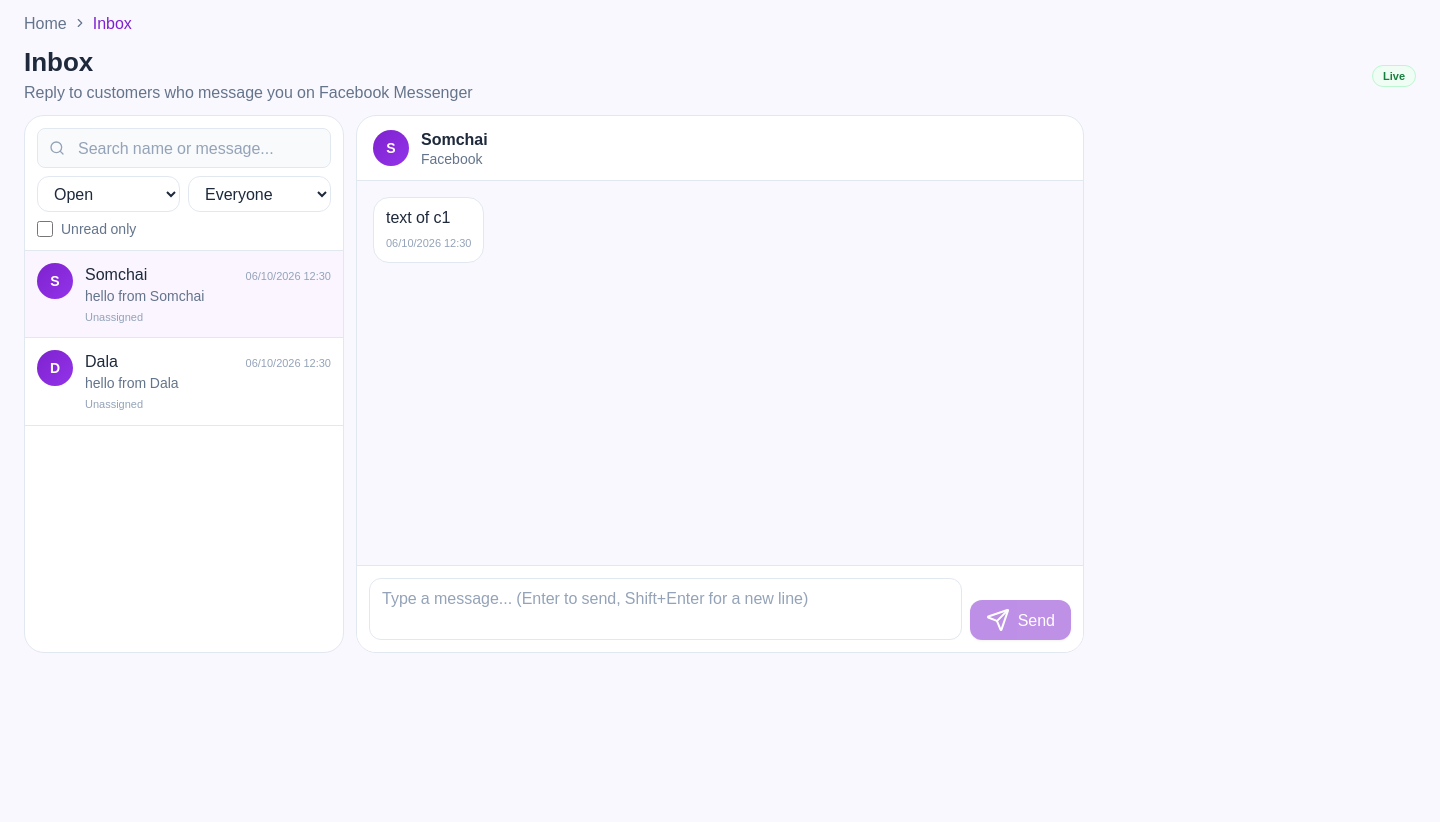
it: InboxPage › ປ່ຽນເຄສ: ThreadPane remount (scroll refs / state ບໍ່ຕິດມາ)
Expected: the text "text of c1" is shown, [386,204,450,230]
Click the button with test id "conversation-c2": point(55, 368) [25,338,343,426]
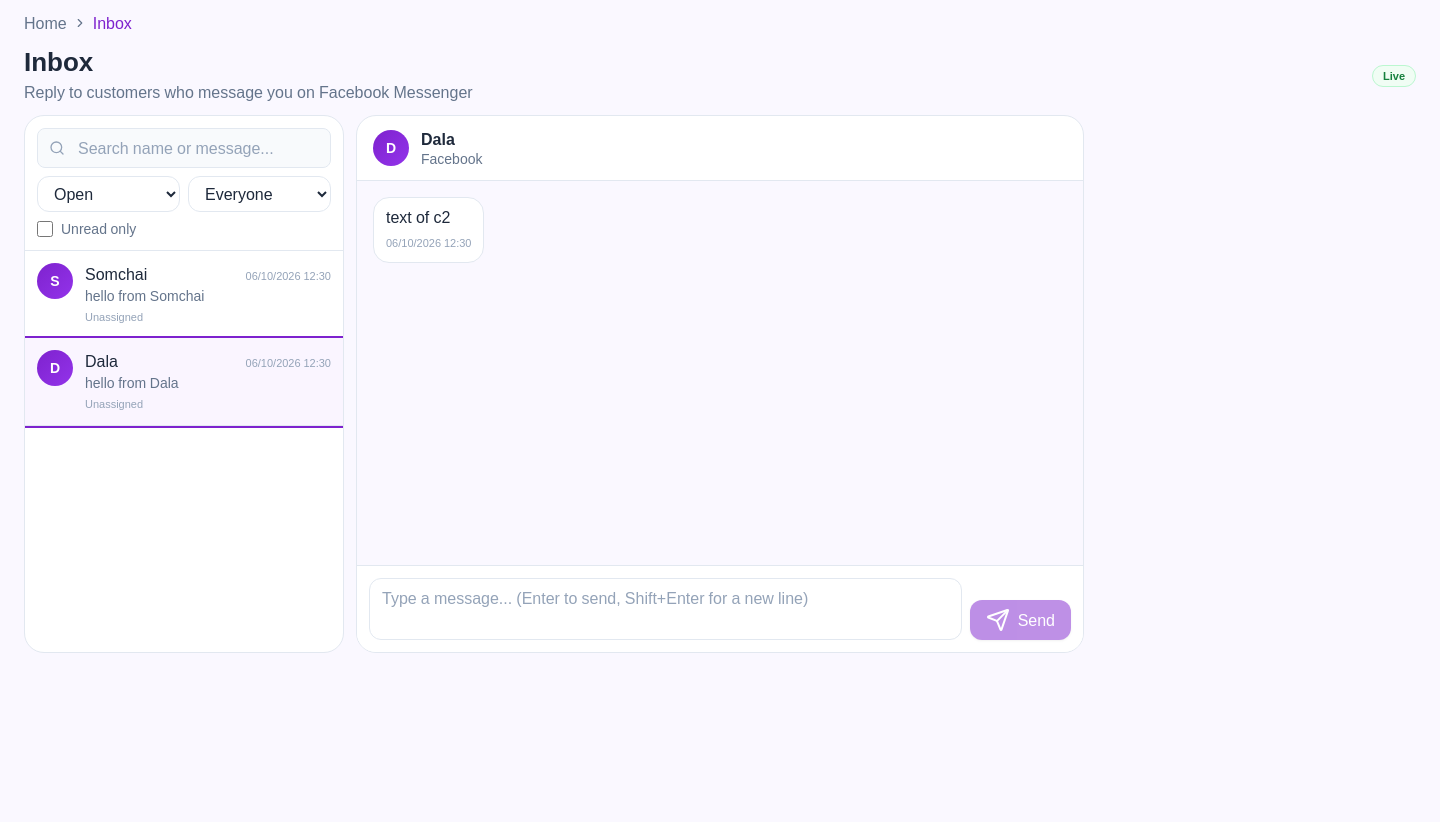
Result: the text "text of c2" is shown at [386,204,450,230]
